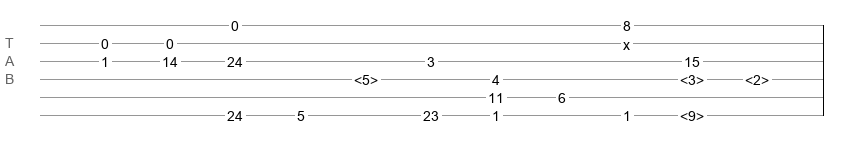0: (101, 36, 109, 46), (166, 36, 174, 46), (231, 18, 239, 28)
1: (101, 54, 109, 64), (492, 108, 500, 118), (623, 108, 631, 118)
11: (488, 90, 504, 100)
14: (162, 54, 178, 64)
15: (684, 54, 700, 64)
23: (423, 108, 439, 118)
24: (227, 54, 243, 64), (227, 108, 243, 118)
3: (427, 54, 435, 64)
4: (492, 72, 500, 82)
5: (297, 108, 305, 118)
6: (558, 90, 566, 100)
8: (623, 18, 631, 28)
harmonic: (354, 72, 378, 82), (680, 72, 704, 82), (680, 108, 704, 118), (745, 72, 769, 82)
x: (623, 37, 630, 45)
